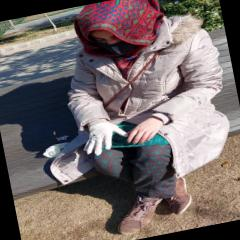gloved: (78, 115, 125, 157)
not-gloved: (122, 115, 168, 145)
